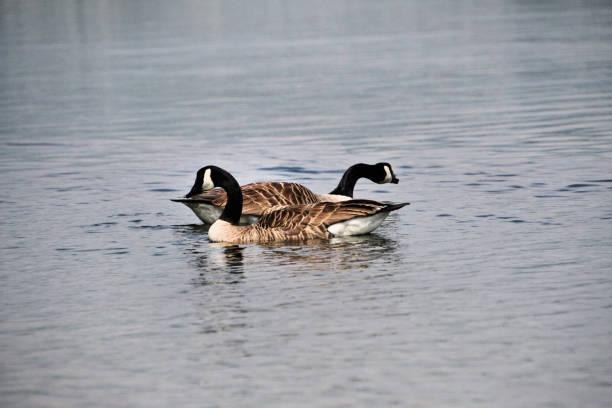Canadian-Goose: (185, 164, 408, 247), (241, 160, 399, 207)
